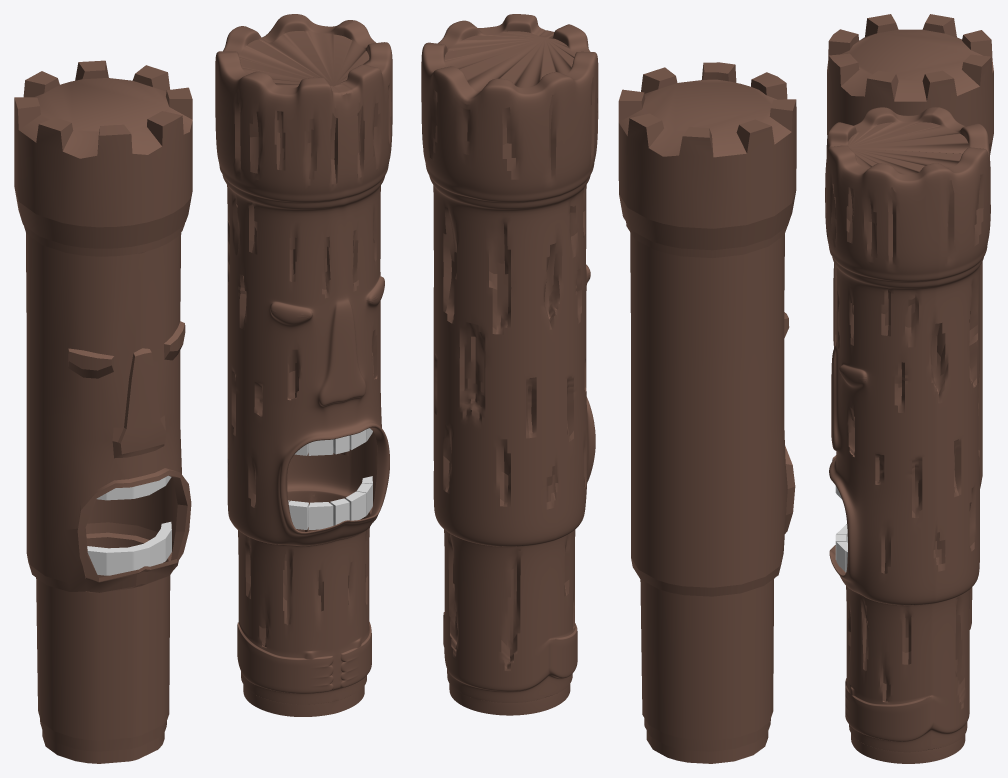
The model's file is tiki statue.fbx.
The picture shows the model from 3 angles, left to right: view 1: azimuth 30°, elevation 25°; view 2: azimuth 150°, elevation 25°; view 3: azimuth 270°, elevation 25°; orthographic projection. The views are drawn at different scales.
Visible parts, largest first — view 1: tiki statue, tiki statue hp; view 2: tiki statue, tiki statue hp; view 3: tiki statue hp, tiki statue.
Part boxes in pixels (box(x1,y1,x2,y2)): tiki statue: box(14, 60, 192, 763); tiki statue hp: box(215, 14, 392, 716); tiki statue: box(618, 62, 796, 763); tiki statue hp: box(421, 14, 598, 715); tiki statue hp: box(825, 107, 990, 763); tiki statue: box(827, 14, 993, 629).
Bounding box in the file's own units: 160 × 279 × 70.84.
